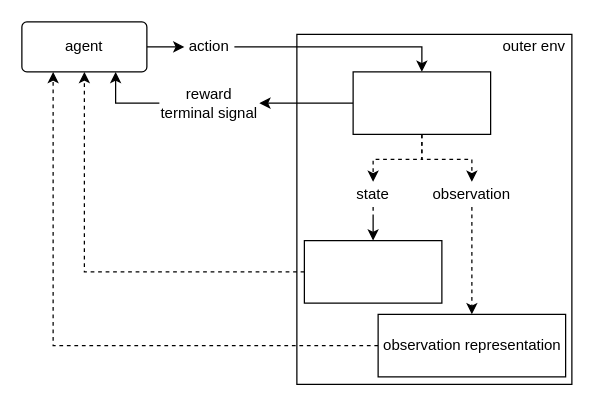
Image size: 594x406. Some labels were removed from this diagram. The shapes that lost their labels are listed below. From the top down, each one's box as (x1, y1, x2, y2) in pixels, then its label:
(352, 71, 491, 134): inner environment
(303, 239, 442, 303): state representation
